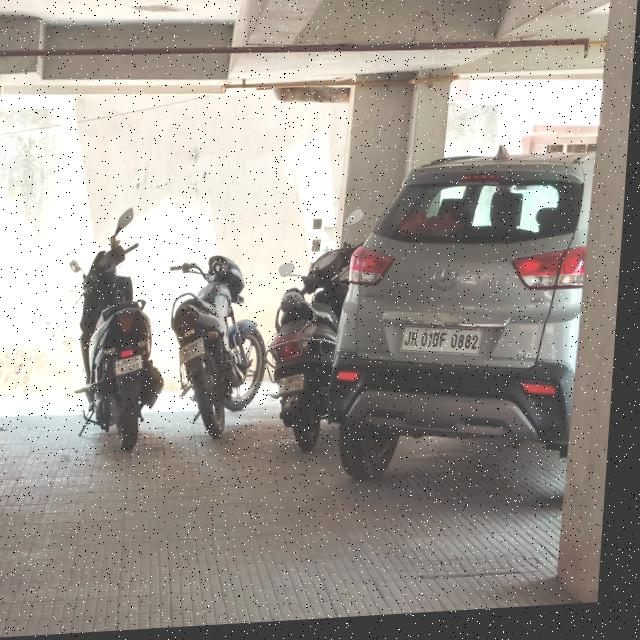bike: (50, 202, 178, 487), (158, 240, 279, 488), (267, 203, 372, 459)
car: (320, 110, 596, 535)
